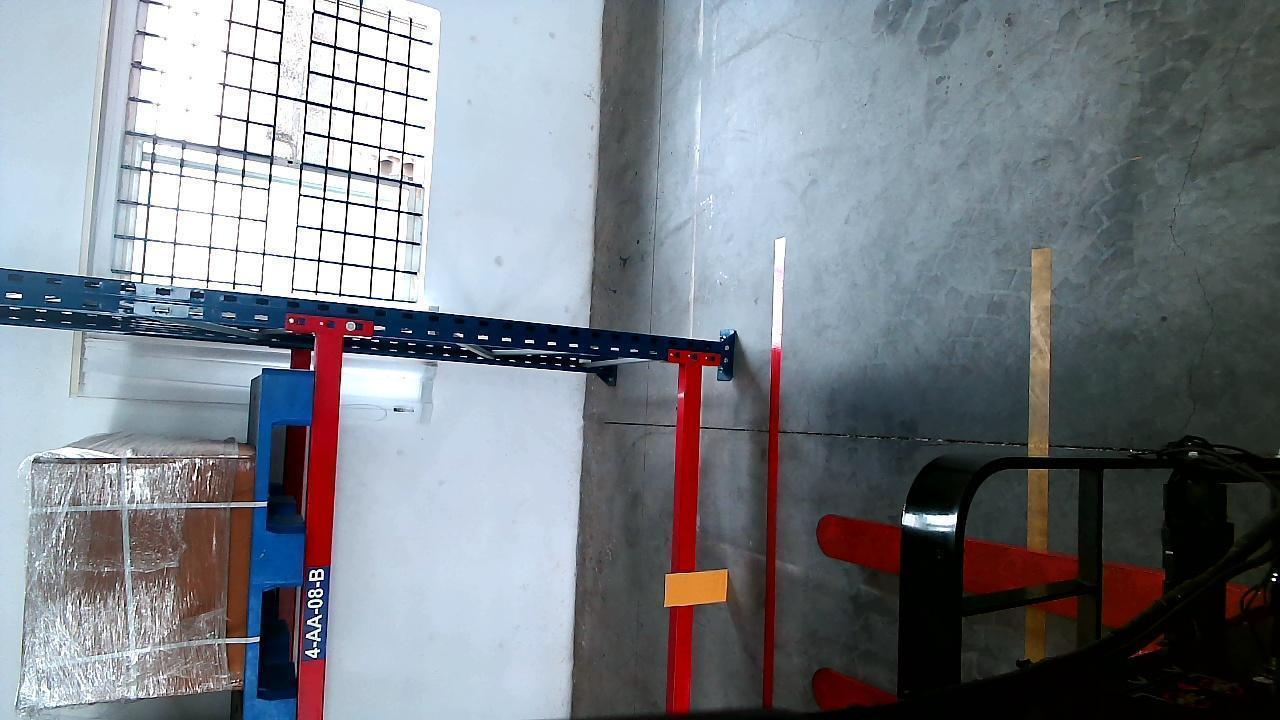red_line: (757, 234, 787, 716)
yellow_line: (1024, 247, 1054, 665)
